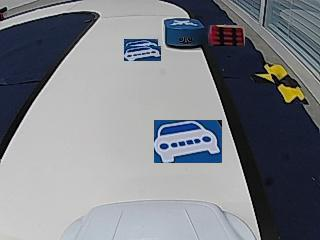prop: (164, 18, 205, 49)
